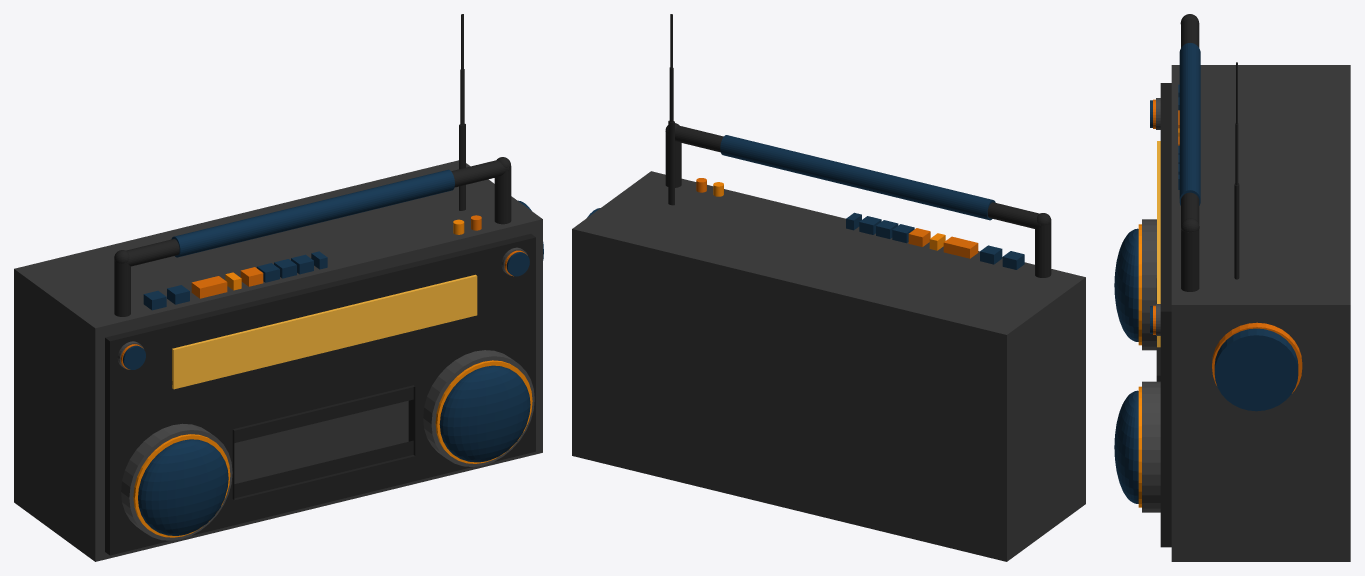
File: Boomboxfixed1.fbx
3 views of the same model, side by side, from view 1: azimuth 30°, elevation 25°; view 2: azimuth 150°, elevation 25°; view 3: azimuth 270°, elevation 25° (orthographic). The views are drawn at different scales.
Visible parts, largest first — view 1: DarkBoomBox, Cube.001, Sphere.001, Sphere, Cylinder.038, Cylinder.001, Cylinder, Cylinder.007, Cylinder.022, Cylinder.021, Cylinder.002, Cylinder.003; view 2: Cube.001, Cylinder.038, Cylinder.007, Cylinder.002; view 3: Cube.001, DarkBoomBox, Cylinder.008, Cylinder.038, Cylinder.001, Sphere, Sphere.001, Cylinder, Cylinder.003, Cylinder.007, Cylinder.026, Cylinder.004 (+2 smaller).
Part boxes in pixels (x1=…): DarkBoomBox: x1=105, y1=234, x2=535, y2=555; Cube.001: x1=14, y1=160, x2=542, y2=561; Sphere.001: x1=439, y1=365, x2=530, y2=462; Sphere: x1=138, y1=439, x2=228, y2=535; Cylinder.038: x1=171, y1=169, x2=454, y2=257; Cylinder.001: x1=423, y1=350, x2=534, y2=466; Cylinder: x1=121, y1=423, x2=232, y2=540; Cylinder.007: x1=125, y1=160, x2=508, y2=266; Cylinder.022: x1=435, y1=360, x2=532, y2=463; Cylinder.021: x1=133, y1=434, x2=230, y2=537; Cylinder.002: x1=114, y1=260, x2=130, y2=316; Cylinder.003: x1=494, y1=166, x2=511, y2=224; Cube.001: x1=572, y1=171, x2=1085, y2=561; Cylinder.038: x1=720, y1=135, x2=995, y2=220; Cylinder.007: x1=667, y1=125, x2=1040, y2=228; Cylinder.002: x1=1035, y1=223, x2=1051, y2=277; Cube.001: x1=1171, y1=65, x2=1350, y2=561; DarkBoomBox: x1=1156, y1=83, x2=1171, y2=547; Cylinder.008: x1=1214, y1=328, x2=1298, y2=411; Cylinder.038: x1=1179, y1=43, x2=1200, y2=205; Cylinder.001: x1=1142, y1=381, x2=1160, y2=512; Sphere: x1=1114, y1=228, x2=1138, y2=341; Sphere.001: x1=1114, y1=390, x2=1138, y2=503; Cylinder: x1=1142, y1=219, x2=1156, y2=350; Cylinder.003: x1=1181, y1=229, x2=1199, y2=291; Cylinder.007: x1=1181, y1=19, x2=1199, y2=231; Cylinder.026: x1=1212, y1=322, x2=1302, y2=393; Cylinder.004: x1=1234, y1=183, x2=1239, y2=279.
Bounding box in the file's own units: 6439 × 5639 × 2559.
